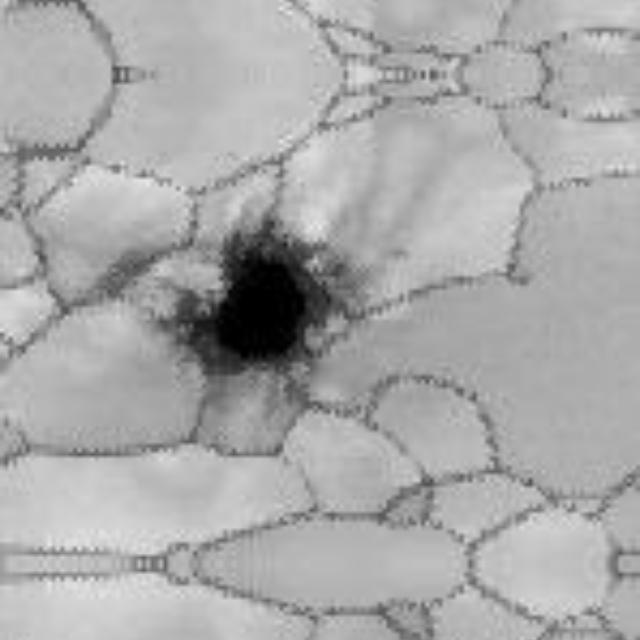good_void: (147, 200, 368, 415)
